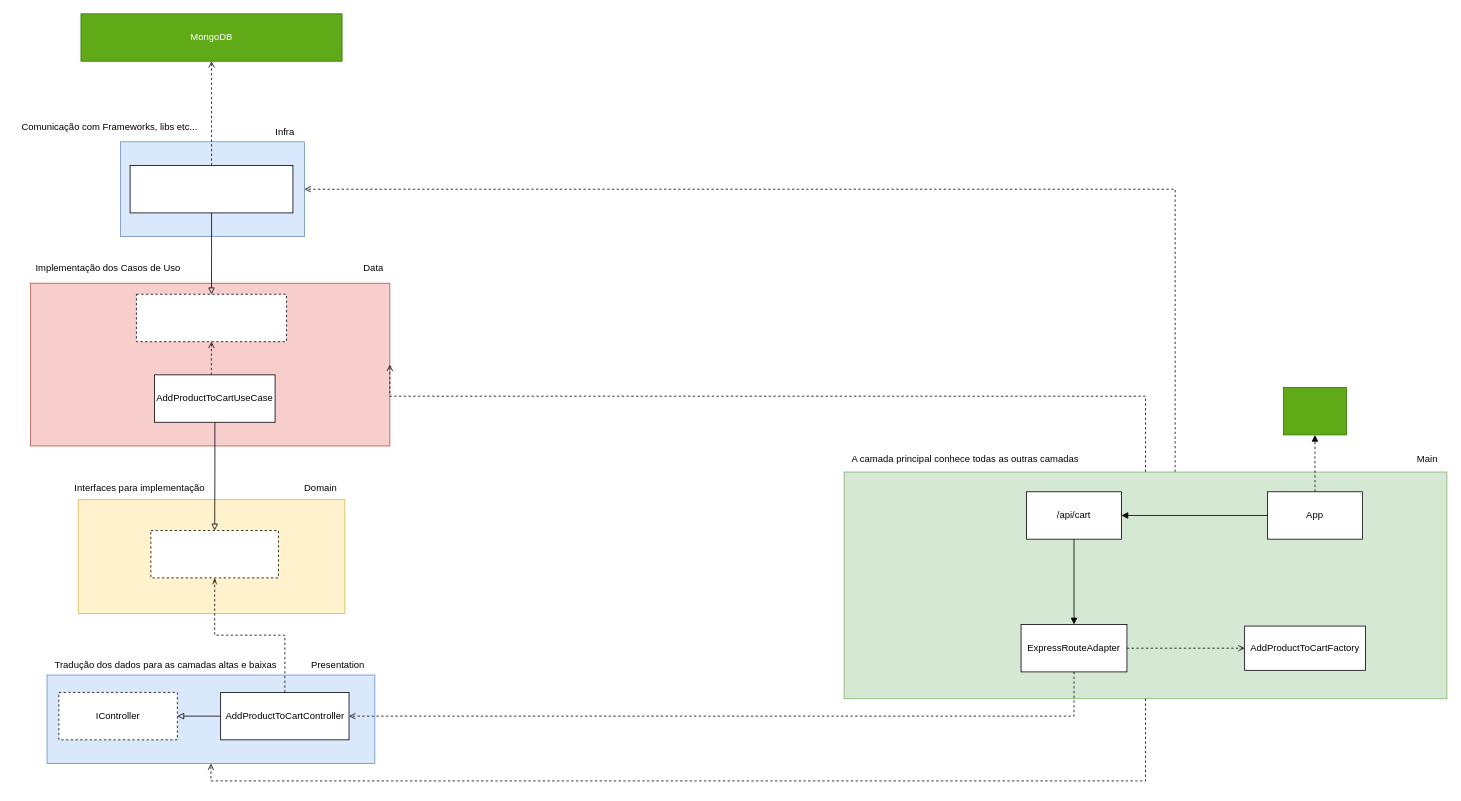
This 1461x801 diagram has some shape labels left out. Here are the shapes that lost their labels. From the top down, the box of each, then its label:
(129, 165, 293, 213): AddProductToCartMongoRepository
(136, 293, 287, 342): IAddProductToCartRepository
(1283, 387, 1347, 435): Express
(150, 530, 278, 578): IAddProductToCartUseCase
